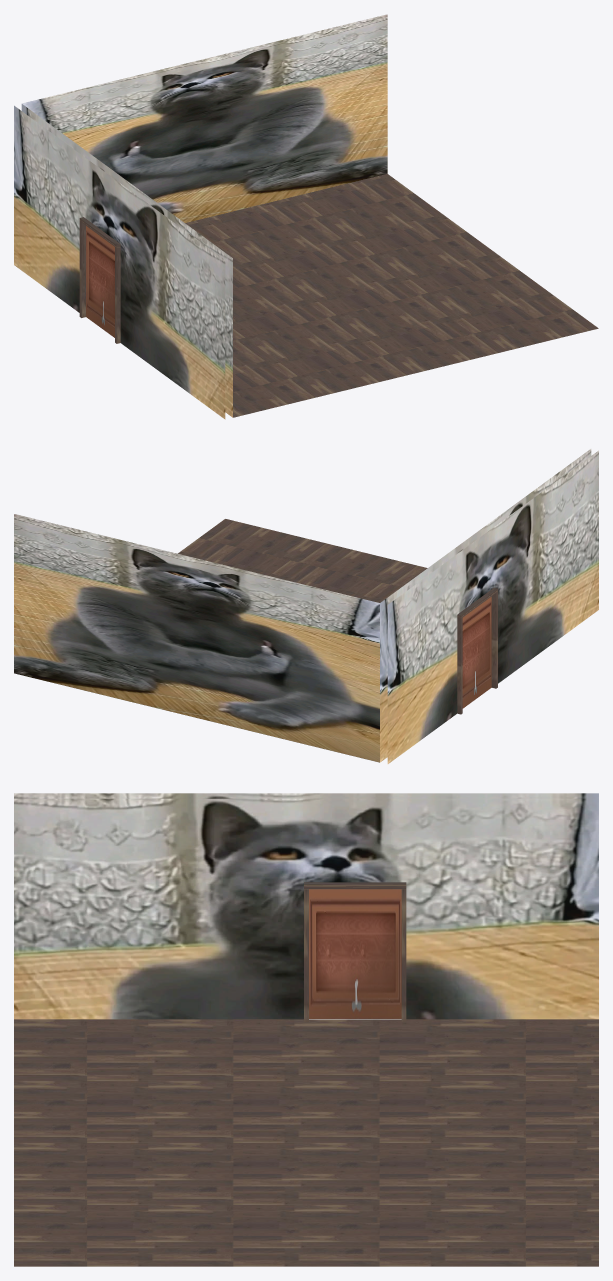
Rendered from catdoor.glb.
3 views of the same model, one above another, from view 1: azimuth 30°, elevation 25°; view 2: azimuth 150°, elevation 25°; view 3: azimuth 270°, elevation 25° (orthographic). The views are drawn at different scales.
Parts seen in each view (by area): view 1: Plane, Plane.001, Plane.002, door1, Cube.001, Cube.002; view 2: Plane.001, Plane.002, Plane, door1, Cube.002, Cube.001; view 3: Plane, Plane.002, door1, Cube.003, Cube.001, Cube.002.
Boxes of the visible parts, x1,y1,x2,y2 form: Plane: (185,174,598,417); Plane.001: (22,14,387,223); Plane.002: (14,104,232,419); door1: (86,226,114,337); Cube.001: (79,221,85,317); Cube.002: (115,247,120,343); Plane.001: (14,514,379,762); Plane.002: (380,449,598,763); Plane: (178,519,427,602); door1: (462,596,491,708); Cube.002: (491,592,497,688); Cube.001: (457,618,462,714); Plane: (14,1019,598,1266); Plane.002: (14,793,598,1019); door1: (309,889,401,1018); Cube.003: (304,882,406,889); Cube.001: (401,889,406,1021); Cube.002: (304,889,308,1021).
Size of the model in its own units: 24.75 by 10 by 24.
Materials: 3 (3 with a texture image).
